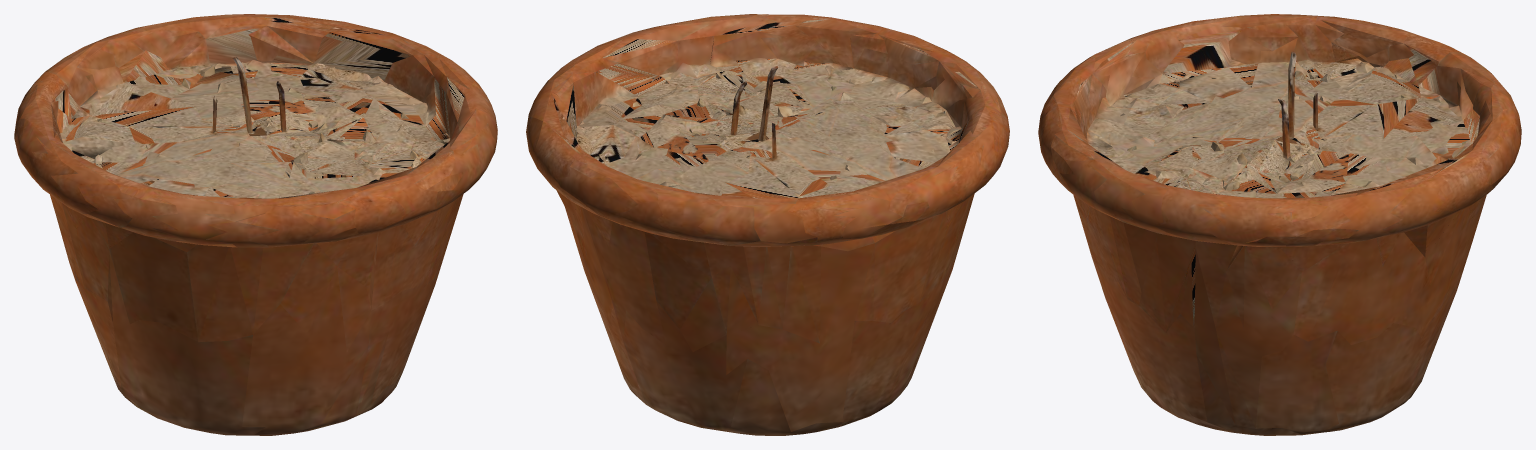
Rendered from w3claypot.glb.
3 renders of one model, left to right at view 1: azimuth 30°, elevation 25°; view 2: azimuth 150°, elevation 25°; view 3: azimuth 270°, elevation 25°, orthographic.
Visible parts, largest first — view 1: w3claypot_near, w3claypot_far; view 2: w3claypot_near, w3claypot_far; view 3: w3claypot_near, w3claypot_far.
Boxes of the visible parts, x1,y1,x2,y2 form: w3claypot_near: (14,14,497,435); w3claypot_far: (42,15,476,414); w3claypot_near: (526,14,1009,435); w3claypot_far: (543,14,989,421); w3claypot_near: (1038,14,1521,435); w3claypot_far: (1053,14,1502,421).
Bounding box in the file's own units: 0.45 × 0.3318 × 0.4505.
Materials: 1 (1 with a texture image).
